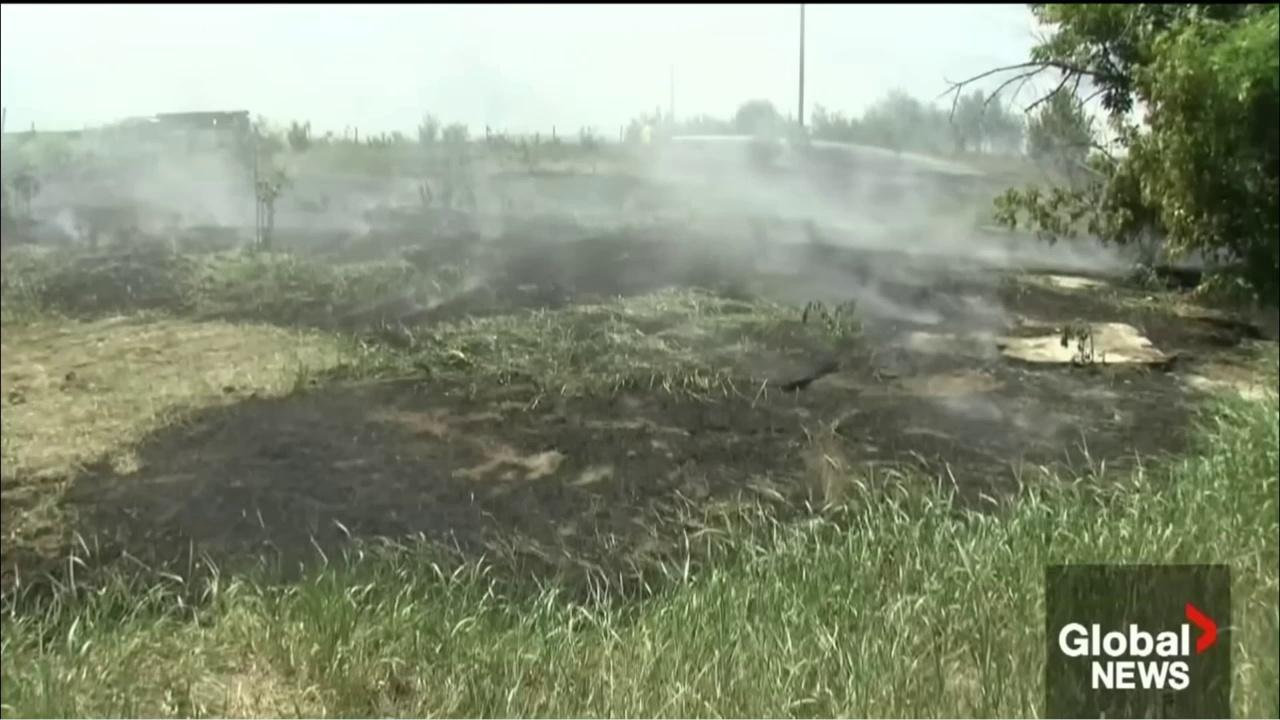smoke: (2, 4, 1251, 466)
